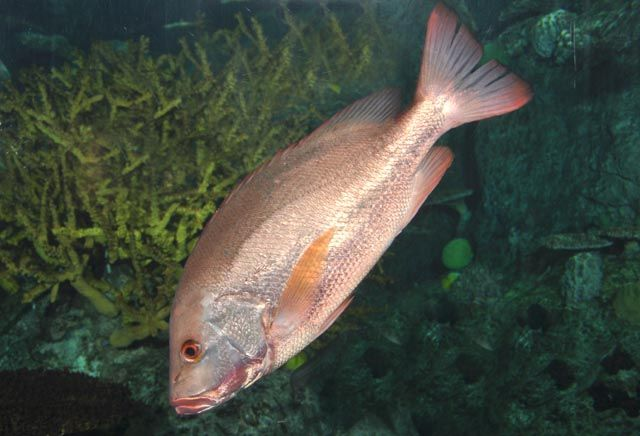fish: (167, 3, 534, 416)
